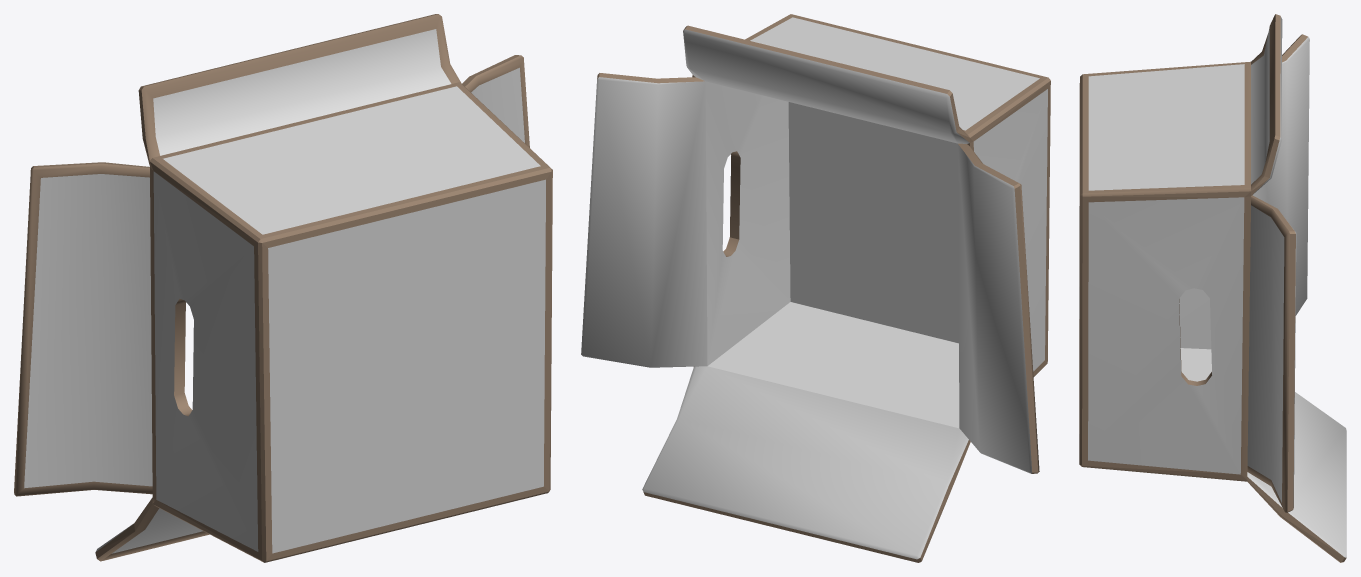
Rendered from BoxTube.fbx.
3 renders of one model, left to right at view 1: azimuth 30°, elevation 25°; view 2: azimuth 150°, elevation 25°; view 3: azimuth 270°, elevation 25°, orthographic. The views are drawn at different scales.
Visible parts, largest first — view 1: BoxTube; view 2: BoxTube; view 3: BoxTube.
Part boxes in pixels (bbox=[...]): BoxTube: bbox=[14, 14, 552, 562]; BoxTube: bbox=[581, 14, 1050, 562]; BoxTube: bbox=[1079, 14, 1346, 562].
Size of the model in its own units: 102 by 93.44 by 53.28.
